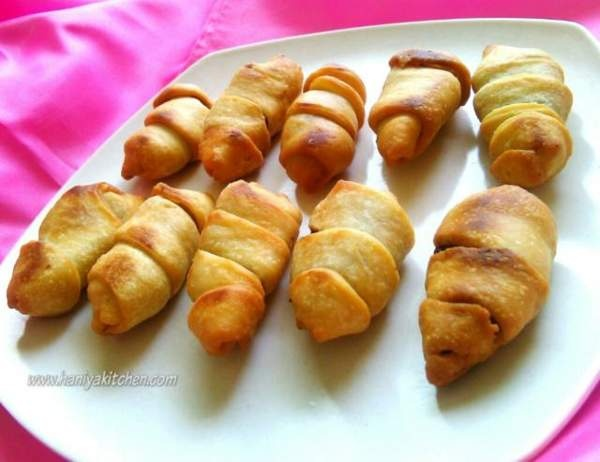pisang_molen: (418, 185, 557, 386), (289, 180, 416, 344), (185, 179, 302, 357), (87, 181, 213, 338), (471, 41, 572, 185), (201, 57, 303, 178), (371, 49, 469, 168), (278, 62, 366, 181)
